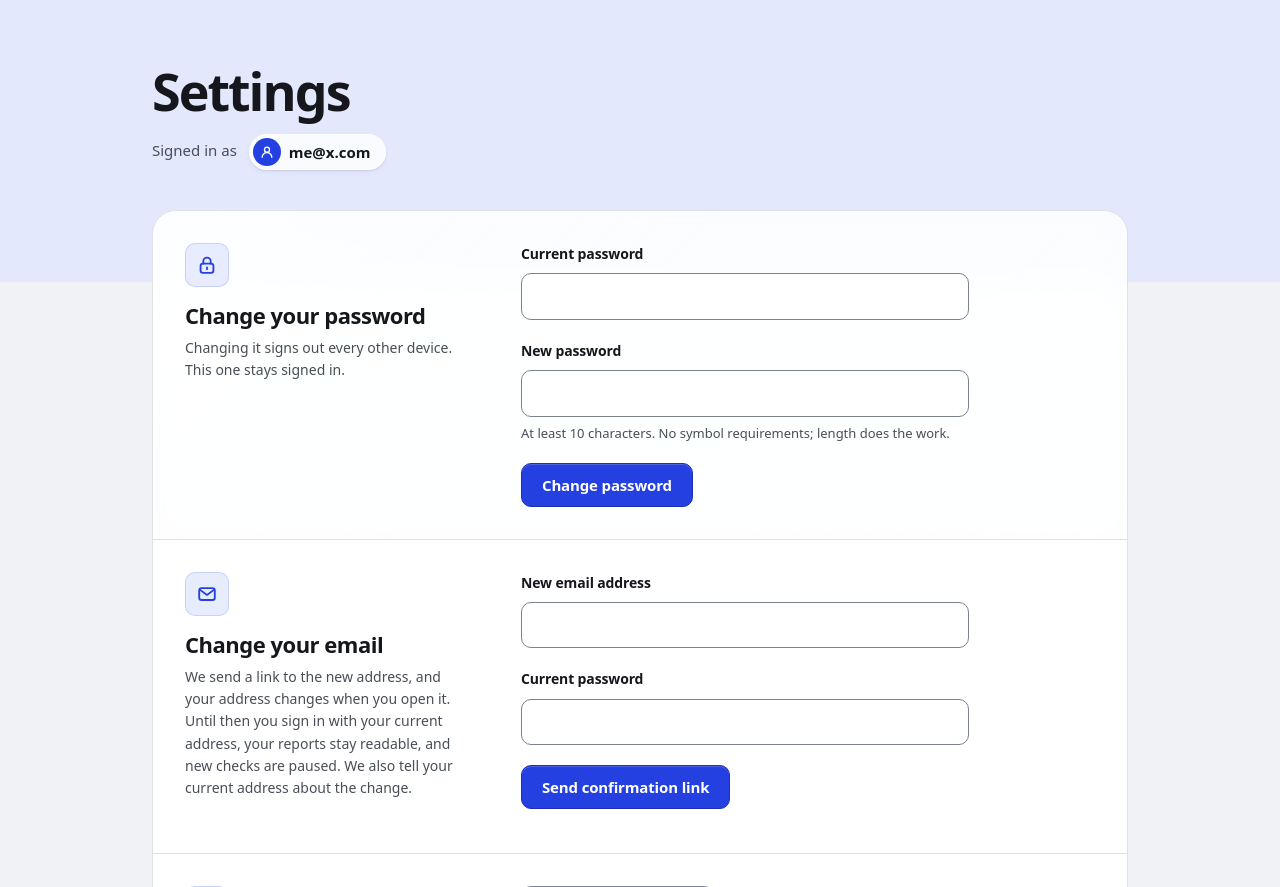
Test case: SettingsPage (FR-7.1, FR-1.9, FR-4.5, FR-4.6) › change password › sends both passwords, clears the fields, and says other devices were signed out
Type "old-password-1" into the password field labelled "Current password" next to "Change your password". click: (745, 297)
box: [521, 274, 969, 320]
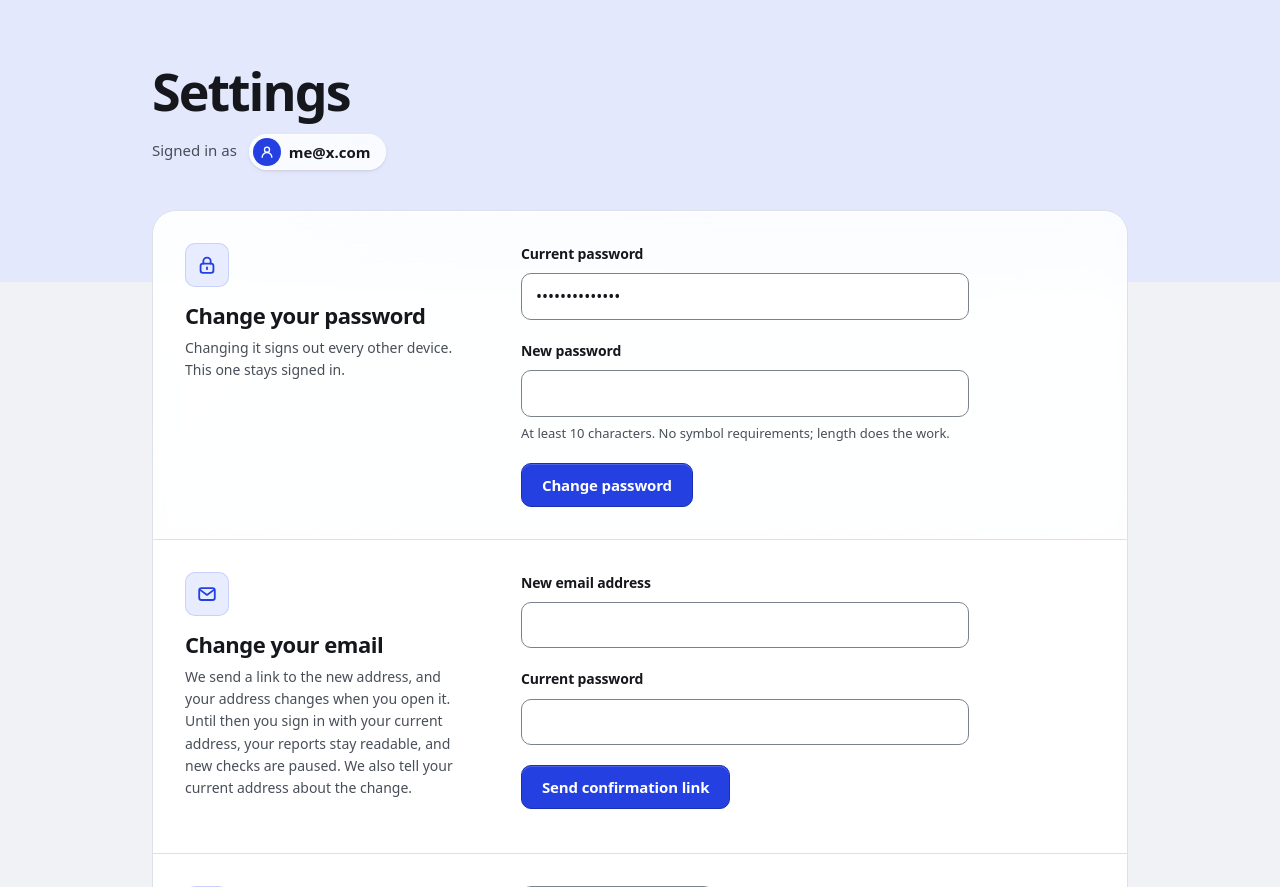
Type "brand-new-password" into the password field labelled "New password". click: (745, 394)
box: [521, 370, 969, 417]
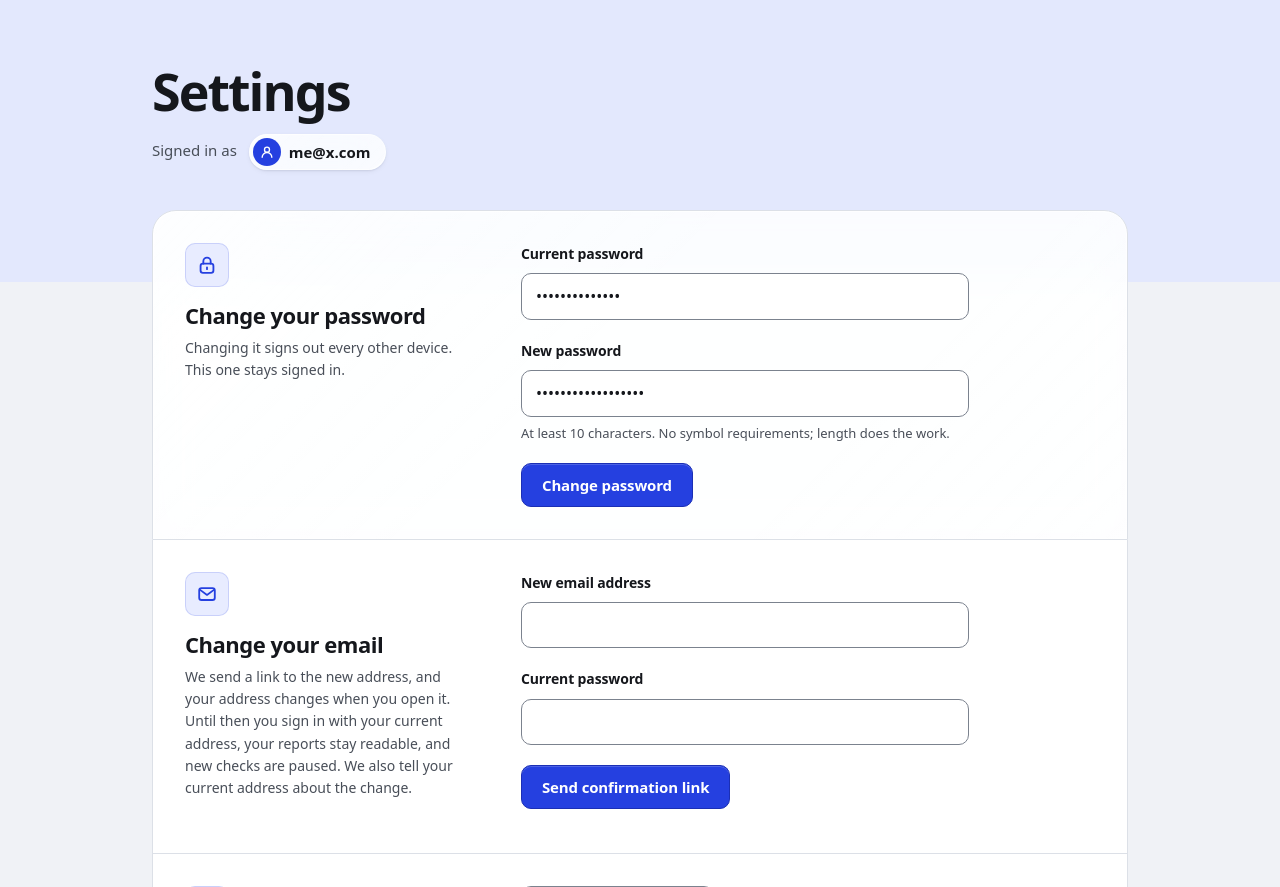
Click the button "Change password". click: (607, 485)
box: [521, 463, 693, 507]
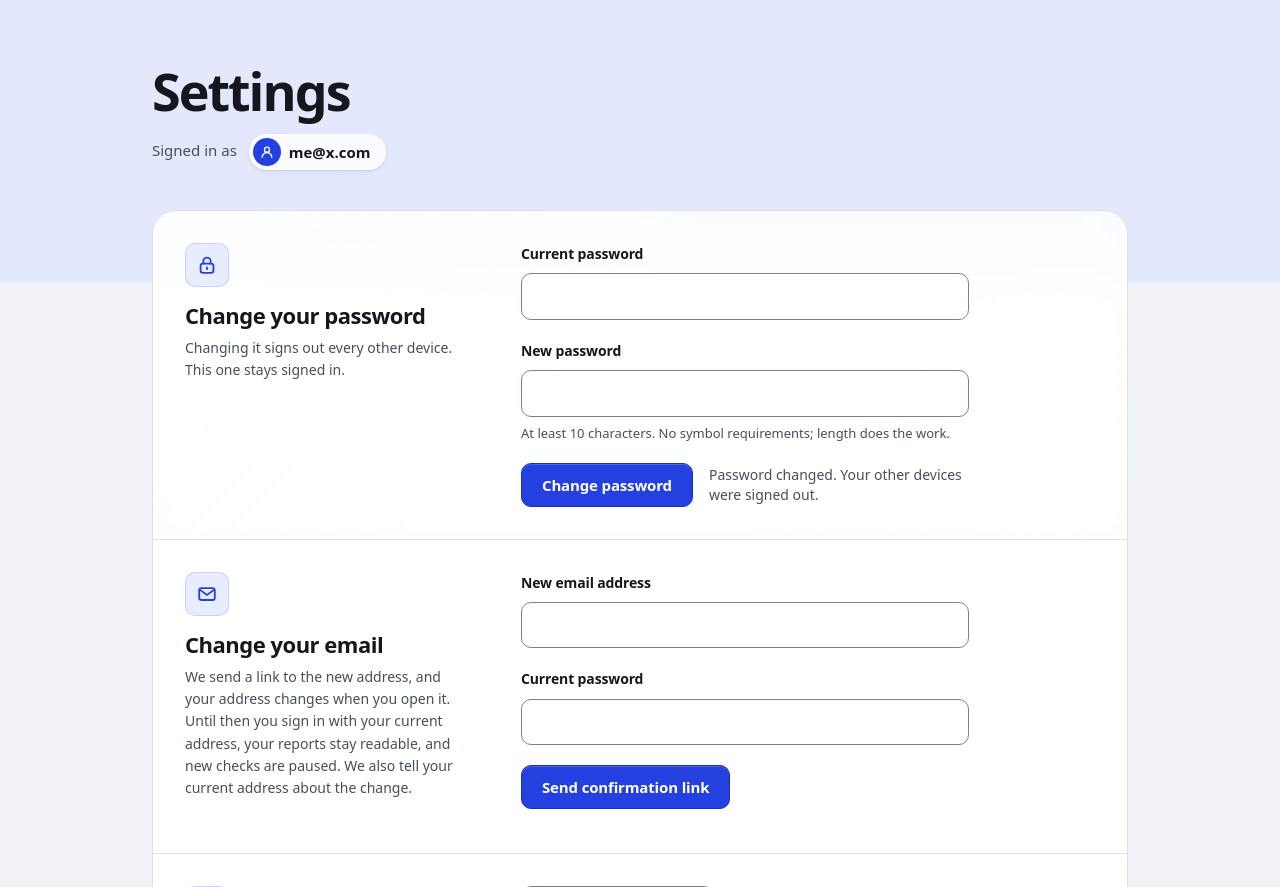
Expected: the text "Password changed. Your other devices were signed out." is shown, [709, 465, 969, 504]
Expected: the password field labelled "Current password" next to "Change your password" is empty, [521, 274, 969, 320]
Expected: the password field labelled "New password" is empty, [521, 370, 969, 417]
